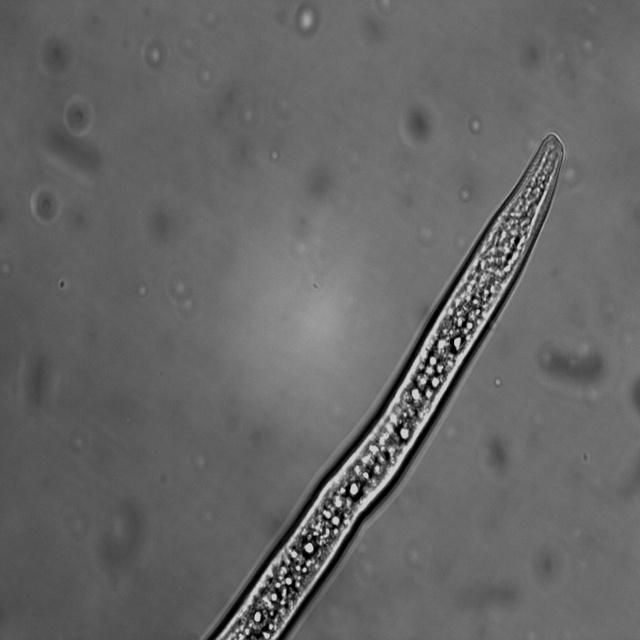Pratylenchus: (210, 130, 572, 640)
